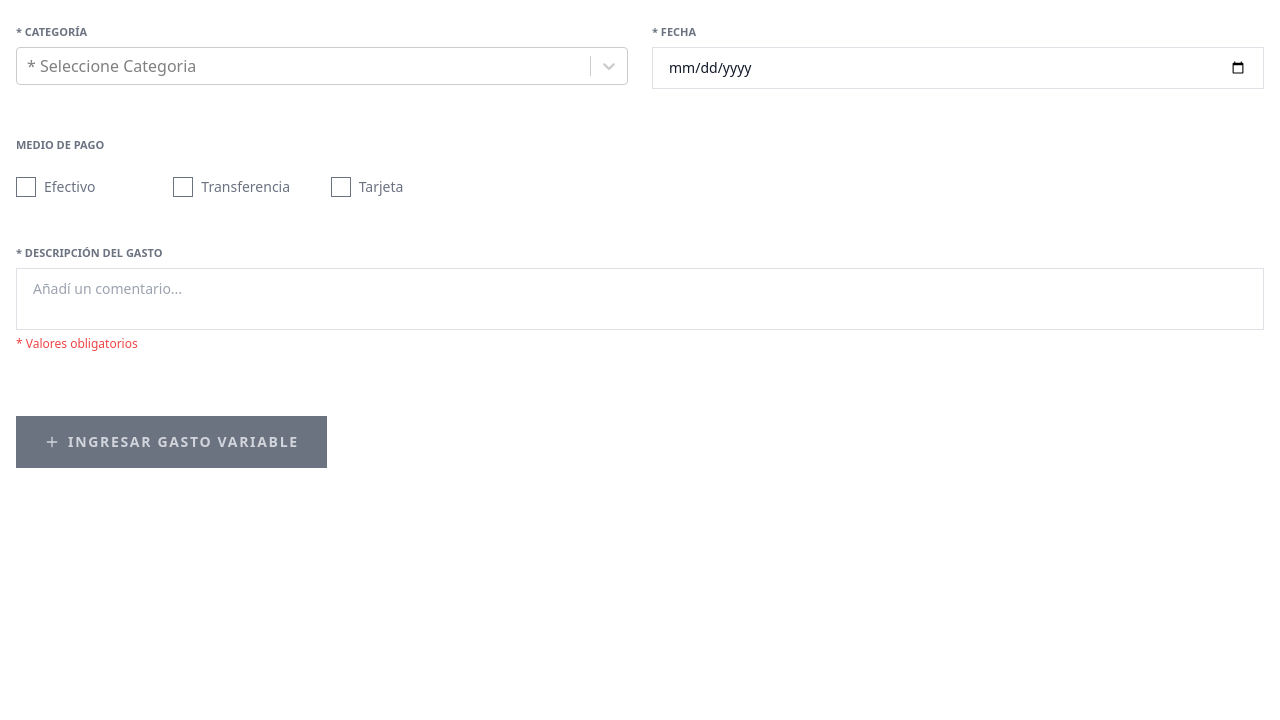
Test case: FormGatosVar › El campo Efectivo tiene un maximo de 10 caracteres y solo acepta numeros
The image size is (1280, 720).
// Se debe activar el checkbox de lo contrario test buscara el input y al no existir fallará el test
Click the checkbox labelled "Efectivo": point(56, 187) left=16, top=177, right=96, bottom=197
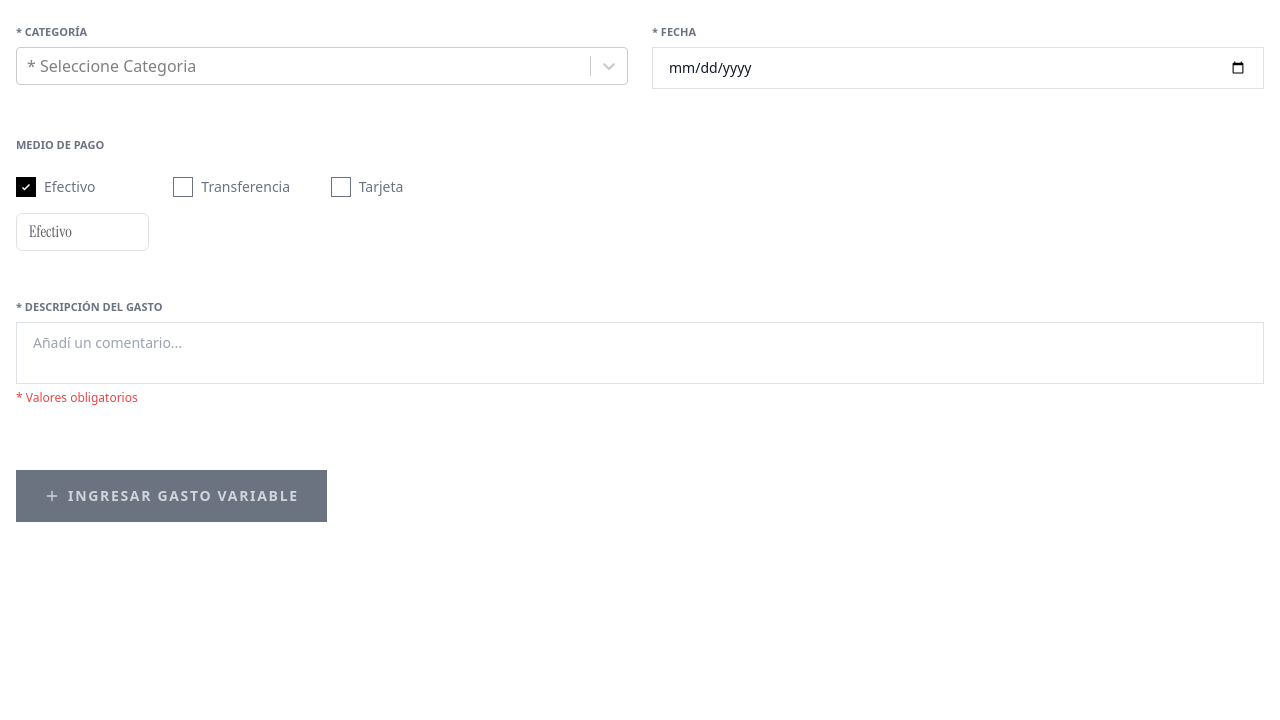
// Escribir más de 10 caracteres (20 dígitos)
In the field with placeholder "Efectivo": point(83, 232) left=16, top=213, right=149, bottom=251, type "12345678901234567890"
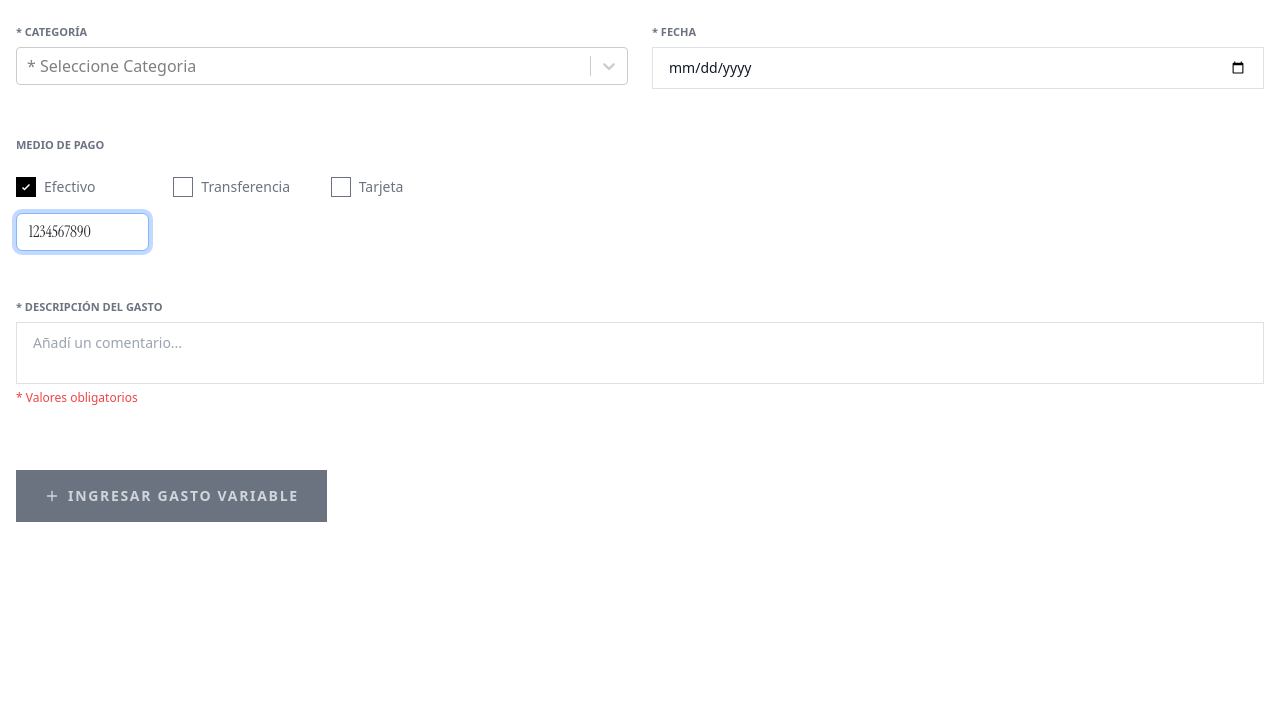
expect the field with placeholder "Efectivo" holds "1234567890": met
// Intentamos escribir letras
Replace the text in the field with placeholder "Efectivo" with "abc123": point(83, 232) left=16, top=213, right=149, bottom=251
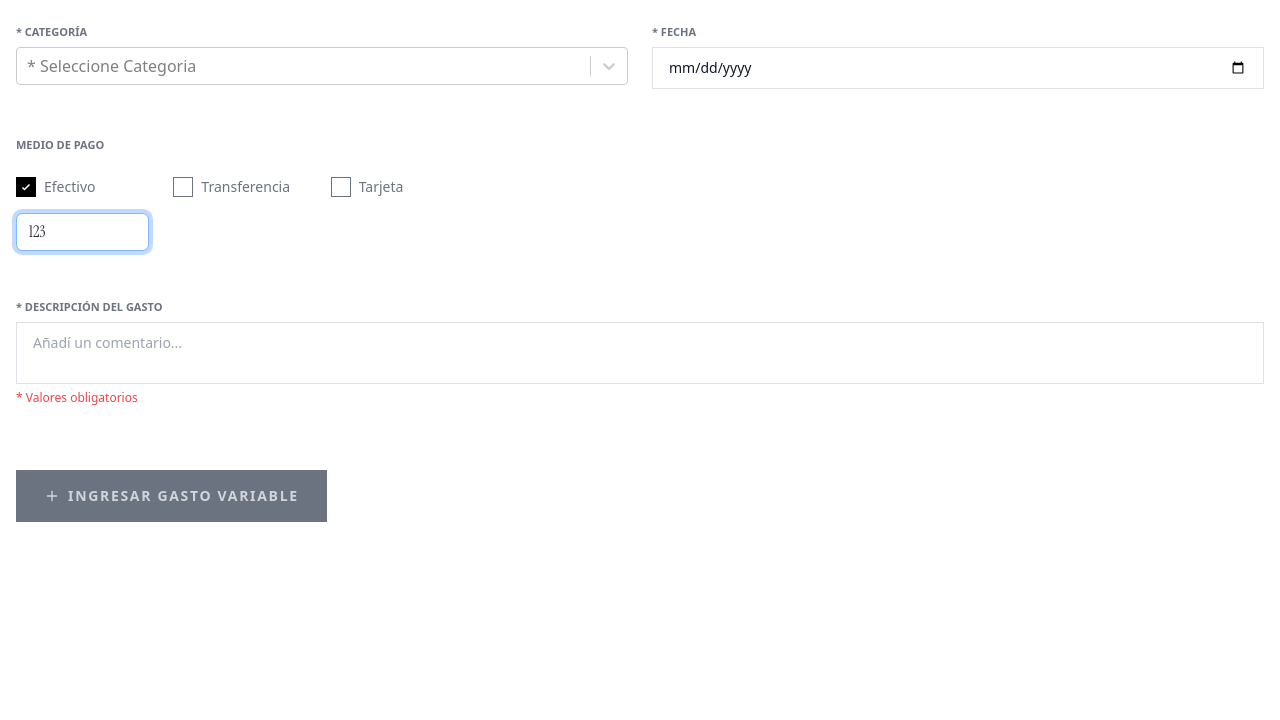
expect the field with placeholder "Efectivo" holds "123": met, box left=16, top=213, right=149, bottom=251
